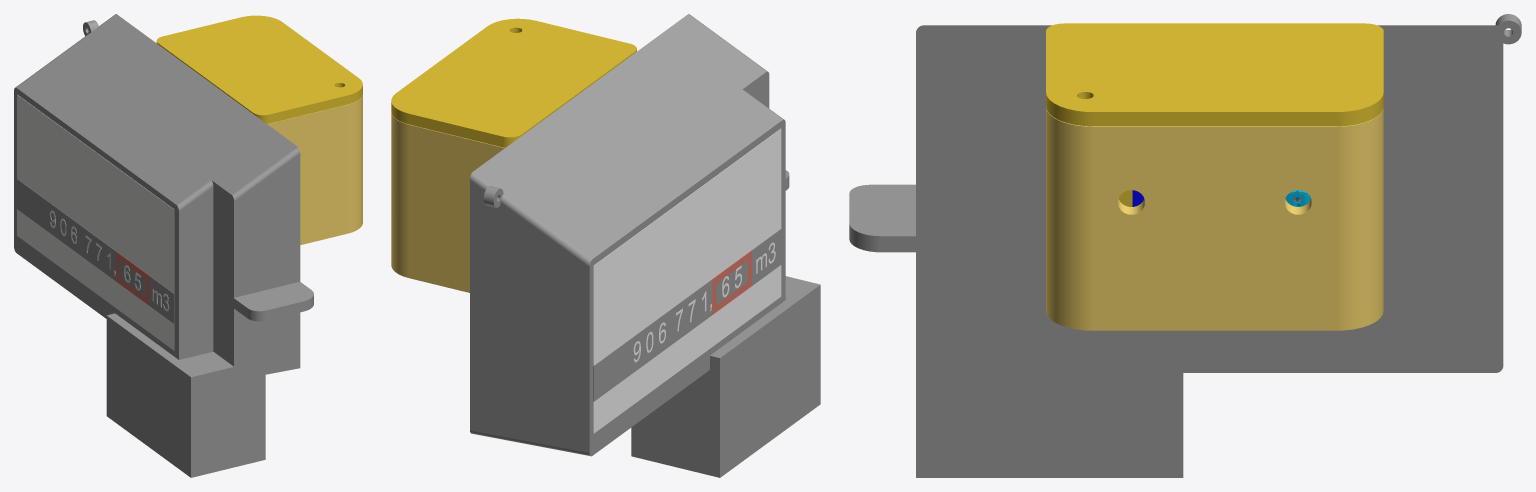
Rendered from MCColor_fin.glb.
3 views of the same model, side by side, from view 1: azimuth 30°, elevation 25°; view 2: azimuth 150°, elevation 25°; view 3: azimuth 270°, elevation 25° (orthographic). The views are drawn at different scales.
Parts seen in each view (by area): view 1: Gasmeter (3), Gasmeter, Body44, Platte, Deckel, Body45, Body29, Body31, Body32, Body30; view 2: Gasmeter (3), Gasmeter, Body44, Platte, Deckel, Body45, Body29, Body31, Body32, Body30; view 3: Gasmeter (3), Deckel, Platte, Gasmeter.
Part boxes in pixels (bbox=[...]): Gasmeter (3): bbox=[14, 14, 313, 374]; Gasmeter: bbox=[106, 313, 265, 477]; Body44: bbox=[17, 94, 174, 293]; Platte: bbox=[156, 15, 362, 123]; Deckel: bbox=[267, 95, 362, 244]; Body45: bbox=[17, 209, 174, 350]; Body29: bbox=[16, 179, 116, 281]; Body31: bbox=[149, 276, 174, 323]; Body32: bbox=[116, 251, 149, 305]; Body30: bbox=[119, 260, 145, 296]; Gasmeter (3): bbox=[470, 14, 789, 456]; Gasmeter: bbox=[631, 276, 820, 477]; Body44: bbox=[593, 128, 781, 365]; Platte: bbox=[391, 18, 636, 147]; Deckel: bbox=[391, 113, 504, 292]; Body45: bbox=[593, 265, 781, 433]; Body29: bbox=[593, 279, 712, 401]; Body31: bbox=[752, 228, 781, 285]; Body32: bbox=[712, 250, 751, 314]; Body30: bbox=[716, 261, 747, 304]; Gasmeter (3): bbox=[849, 14, 1521, 372]; Deckel: bbox=[1046, 107, 1383, 330]; Platte: bbox=[1046, 23, 1383, 206]; Gasmeter: bbox=[916, 373, 1183, 477].
Size of the model in its own units: 0.078 by 0.1012 by 0.1282.
